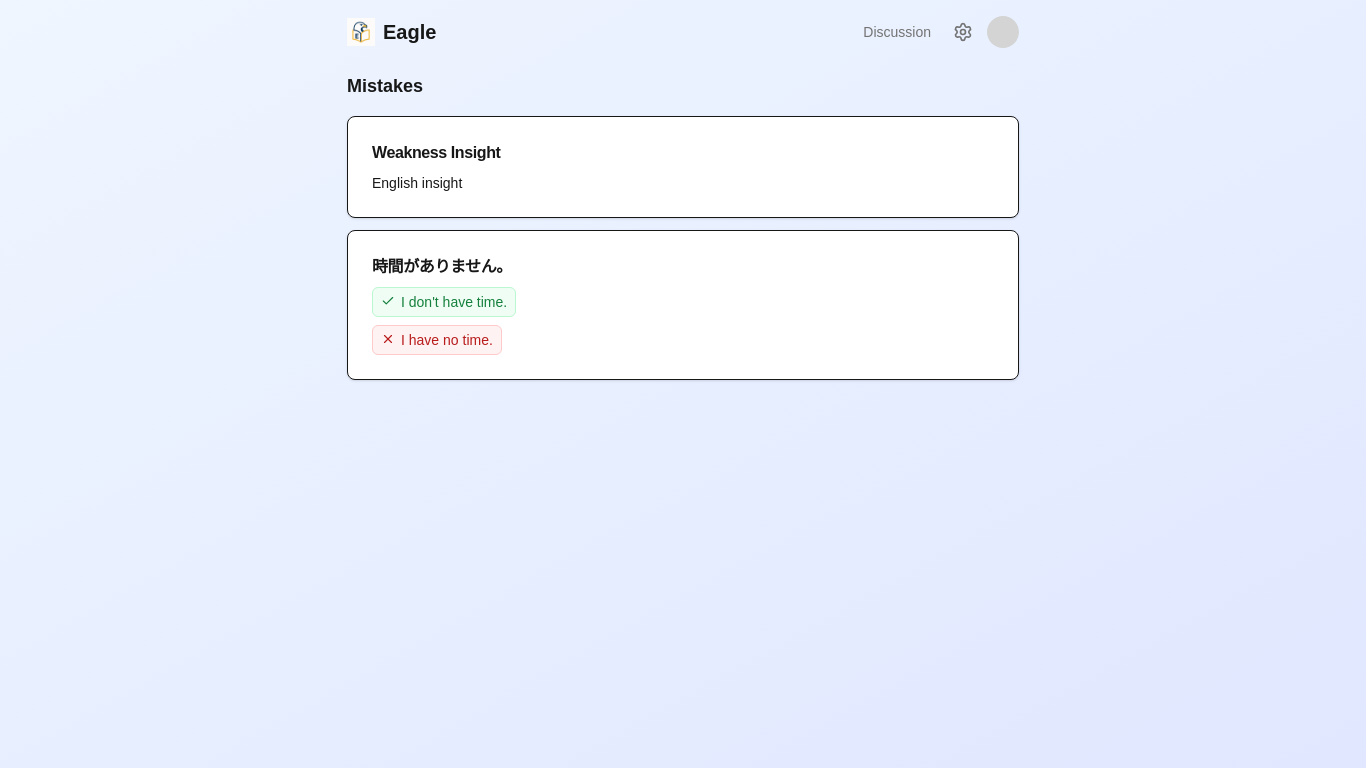
Scenario: header and settings › clears the loading state when a cached insight supersedes an in-flight request
Expected: the text "English insight" is shown, [372,175,462,191]
What coordinates should you click on to do the following:
click the button named "Settings"
I would click on:
 (963, 32)
Its box is [947,16,979,48].
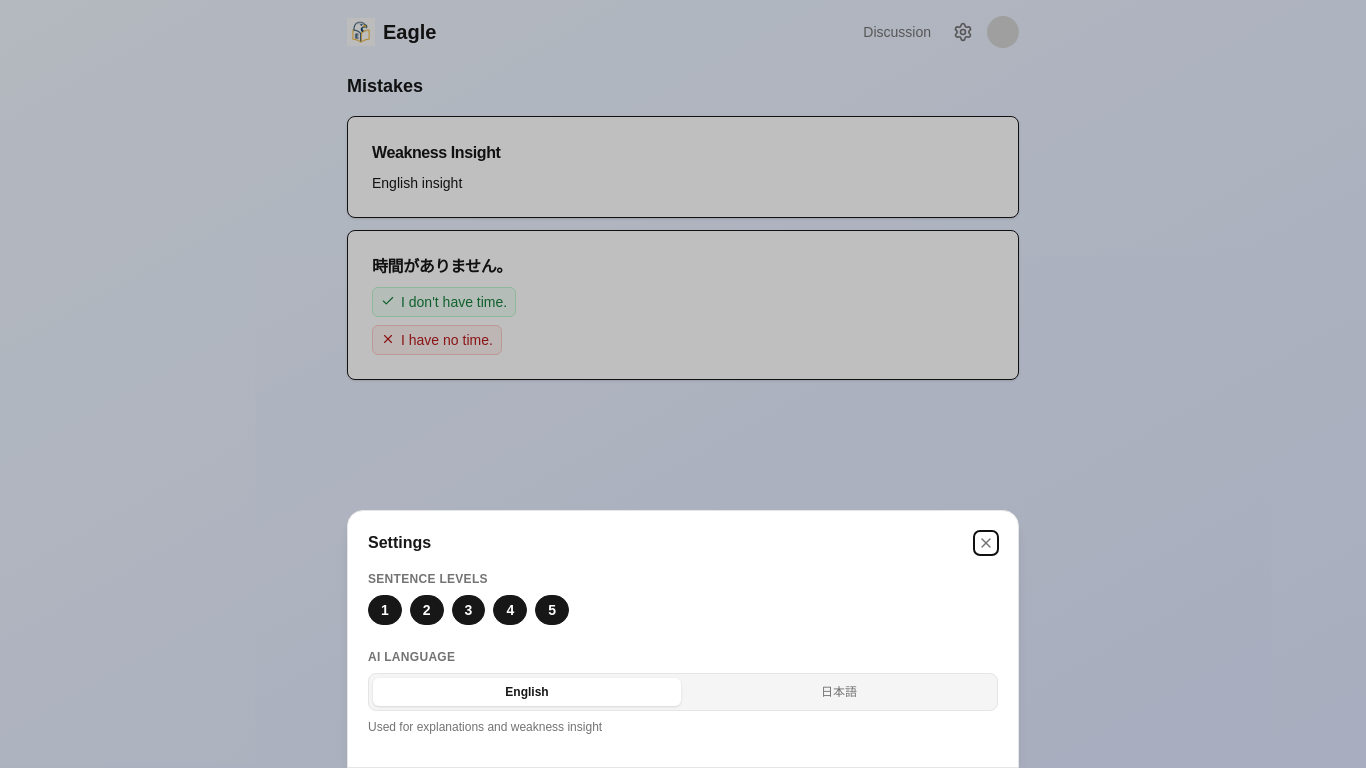
What coordinates should you click on to do the following:
click the tab "日本語"
I would click on:
 (839, 692)
Its box is [685,678,993,706].
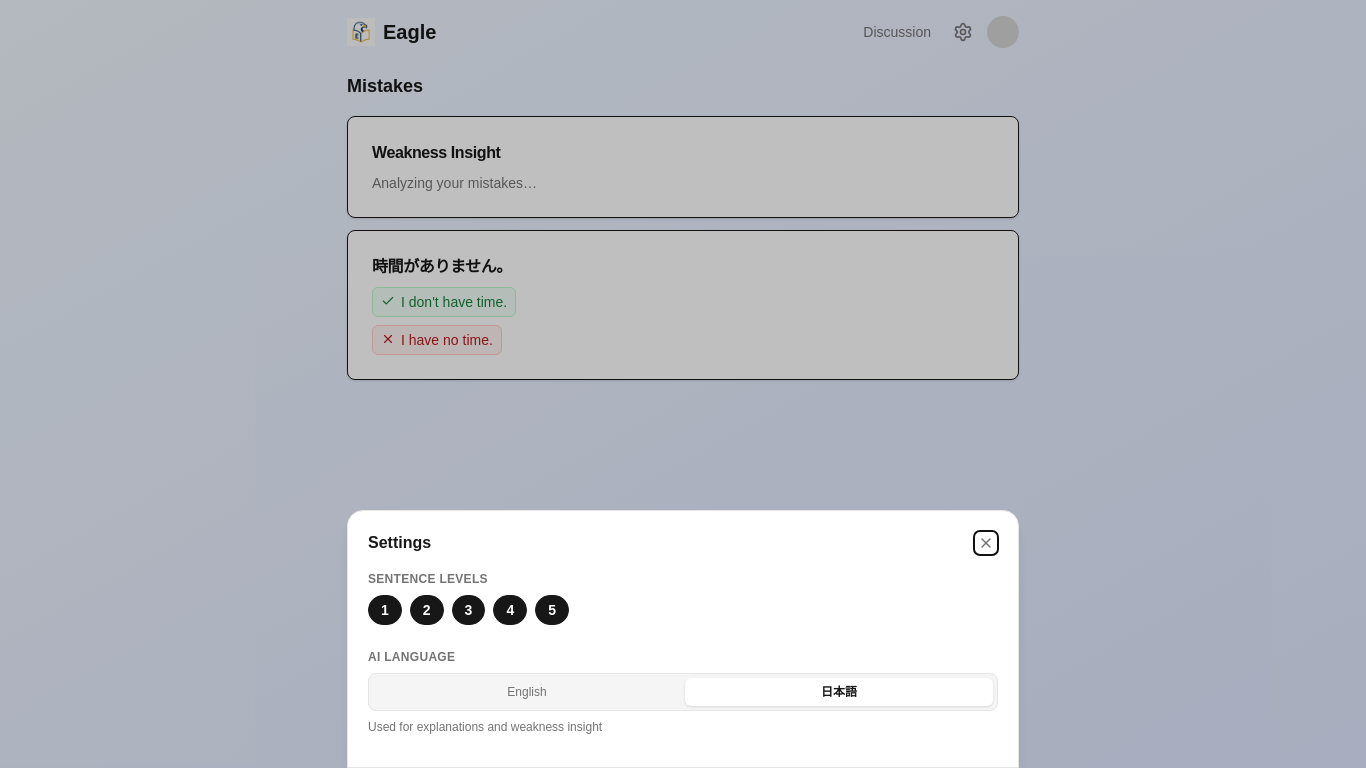
Expected: the text "Analyzing your mistakes…" is shown, [372,175,537,191]
What coordinates should you click on to do the following:
click the tab "English"
I would click on:
 (527, 692)
Its box is [373,678,681,706].
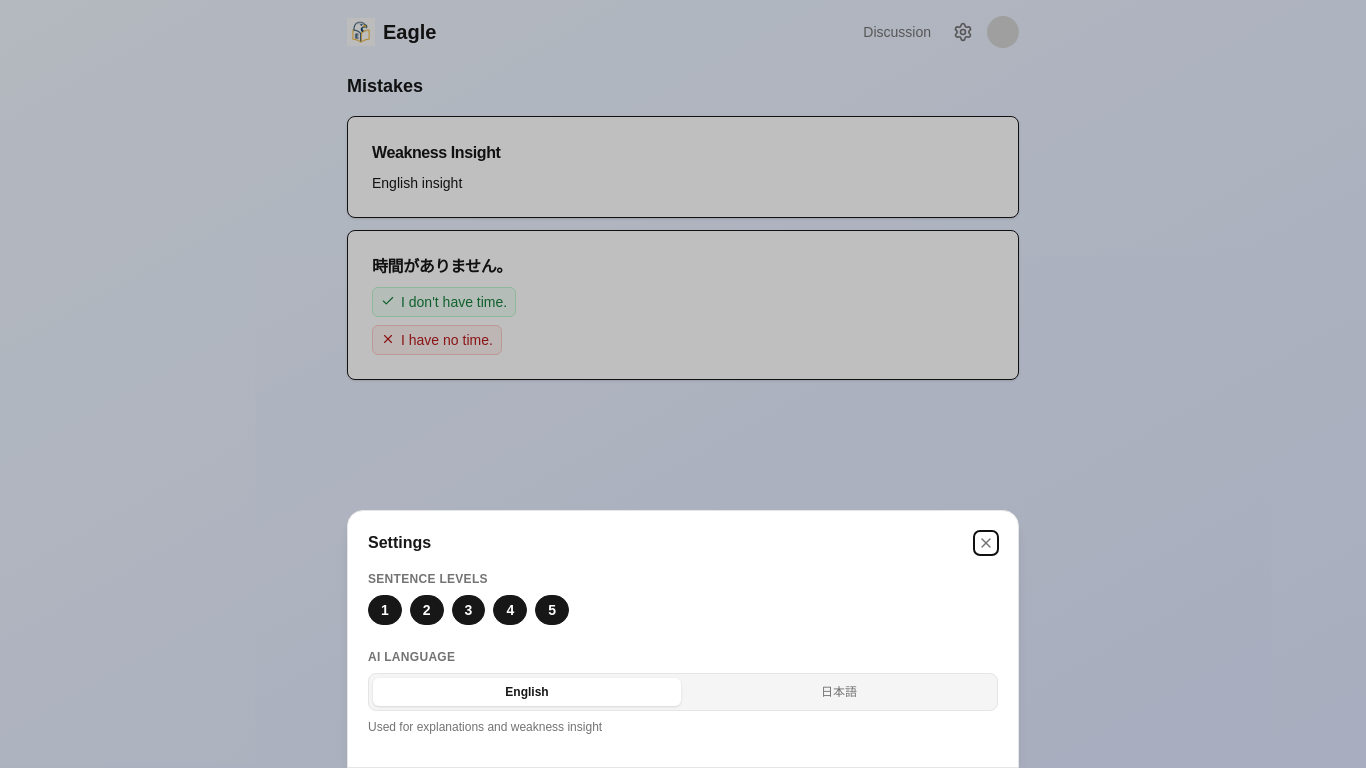
Expected: the text "Analyzing your mistakes" is gone
Expected: the text "English insight" is shown, [372,175,462,191]
